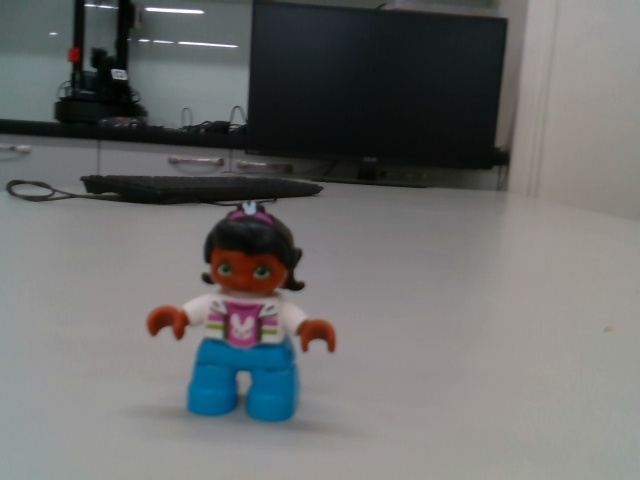people: (145, 198, 340, 426)
